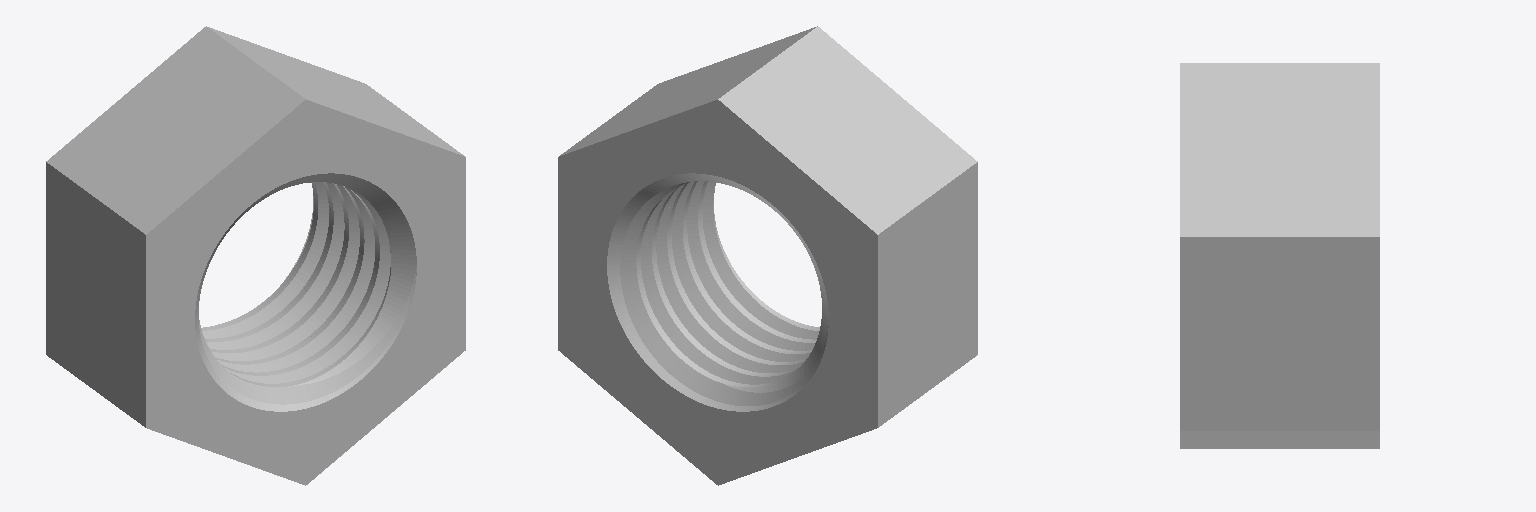
The model's file is tacsl_nut_m16_loose_subdiv_3x_flipped.obj.
The picture shows the model from 3 angles: view 1: azimuth 30°, elevation 25°; view 2: azimuth 150°, elevation 25°; view 3: azimuth 270°, elevation 25°; orthographic projection.
Size of the model in its own units: 0.024 by 0.0277 by 0.013.